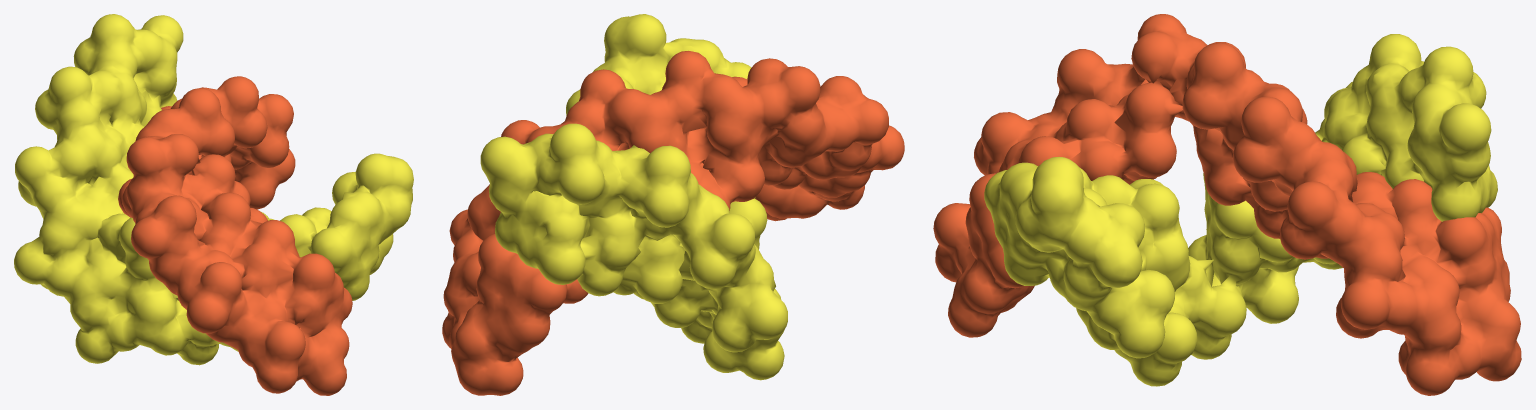
Rendered from 1mxkmesh.fbx.
3 views of the same model, side by side, from view 1: azimuth 30°, elevation 25°; view 2: azimuth 150°, elevation 25°; view 3: azimuth 270°, elevation 25° (orthographic). The views are drawn at different scales.
Visible parts, largest first — view 1: model_1 chain_B chain_B_surface, chain_A model_1 chain_A_surface; view 2: chain_A model_1 chain_A_surface, model_1 chain_B chain_B_surface; view 3: chain_A model_1 chain_A_surface, model_1 chain_B chain_B_surface.
Part boxes in pixels (x1,y1,x2,y2): model_1 chain_B chain_B_surface: [14, 14, 413, 365]; chain_A model_1 chain_A_surface: [118, 76, 352, 395]; chain_A model_1 chain_A_surface: [442, 51, 904, 395]; model_1 chain_B chain_B_surface: [480, 14, 787, 380]; chain_A model_1 chain_A_surface: [933, 14, 1521, 395]; model_1 chain_B chain_B_surface: [984, 34, 1497, 386].
Bounding box in the file's own units: 2659 × 2346 × 3924.
